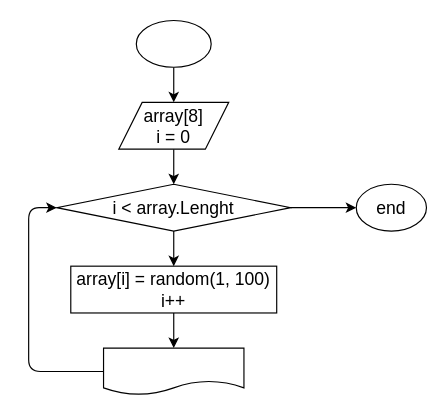
This 447x415 diagram has some shape labels left out. Each missing label, with the box of its shape:
array[i]: (102, 347, 244, 395)
start: (135, 19, 211, 67)
